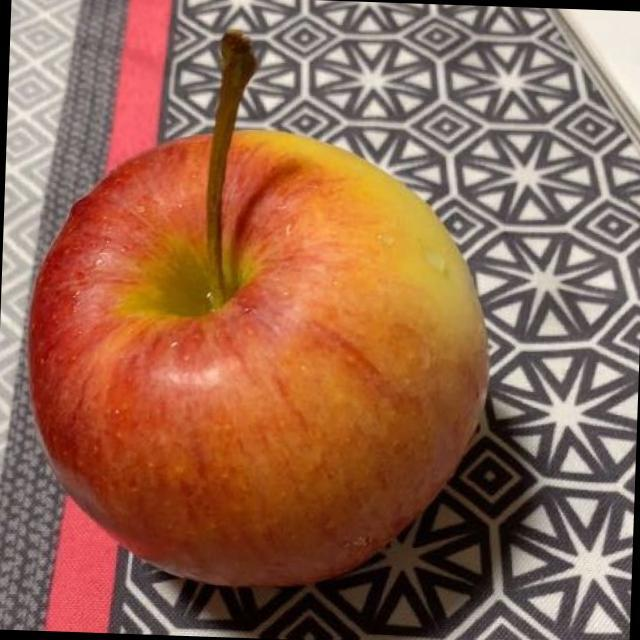Apple: (11, 13, 510, 603)
